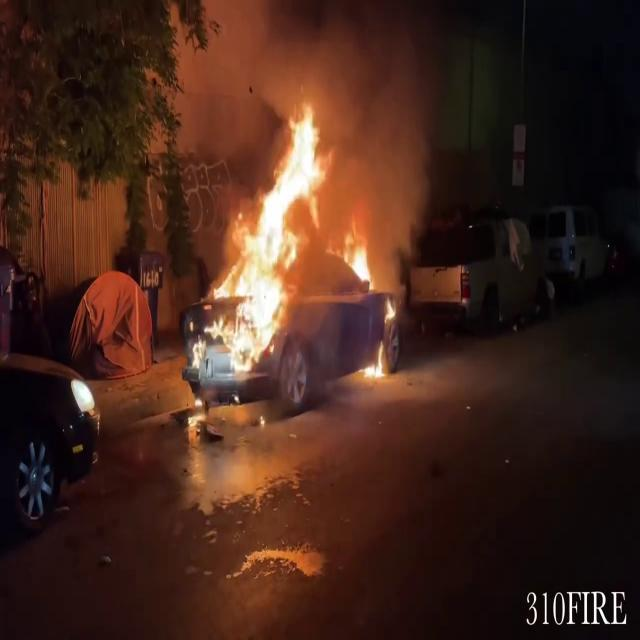Fire: (193, 93, 394, 387)
Smoke: (321, 2, 461, 248)
